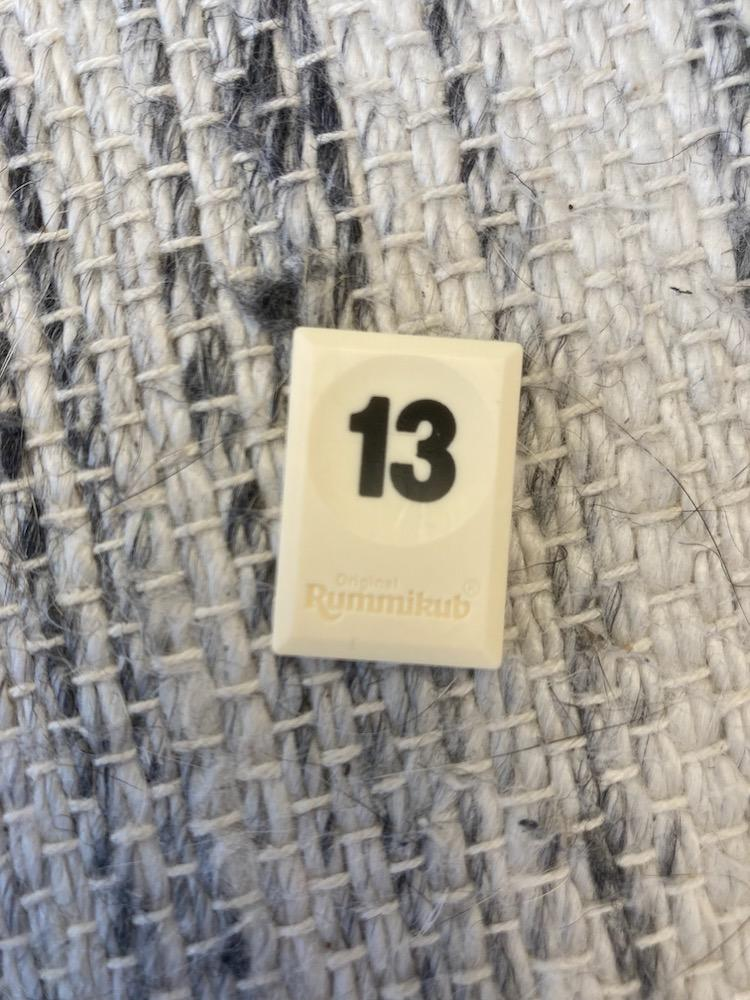black_13: (273, 328, 521, 668)
